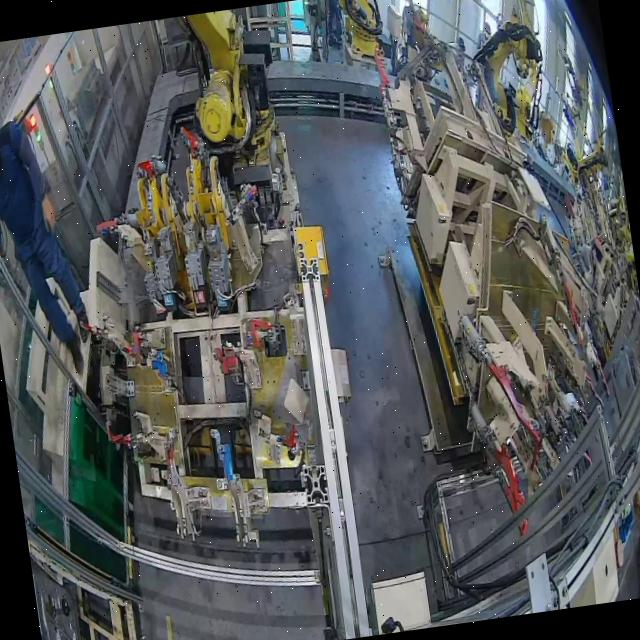Person: (0, 108, 97, 386), (472, 14, 498, 58)
